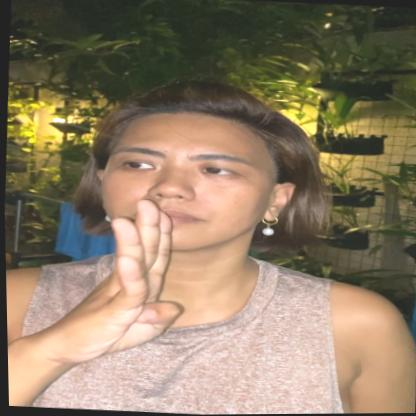Talk: (52, 67, 340, 386)
